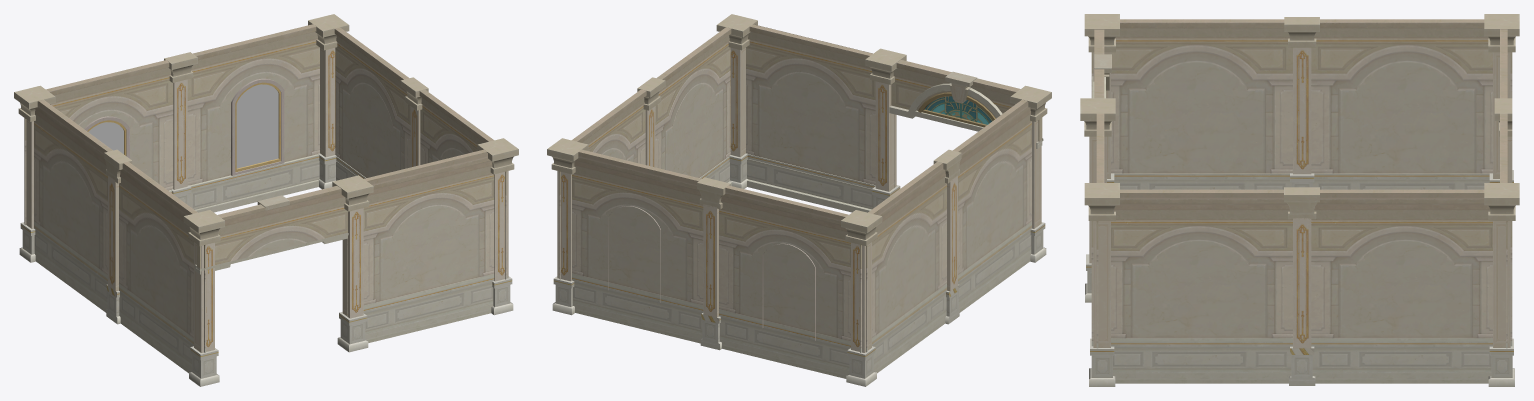
The model's file is Homeworld_Interior_Fd_Room_I_Wall_01_Vo.fbx.
The picture shows the model from 3 angles, left to right: view 1: azimuth 30°, elevation 25°; view 2: azimuth 150°, elevation 25°; view 3: azimuth 270°, elevation 25°; orthographic projection. The views are drawn at different scales.
Parts seen in each view (by area): view 1: Homeworld_Interior_Fd_Room_I_Filling_01_Vo, Homeworld_Interior_Fd_Room_Wall_02_Vo (×2), Homeworld_Interior_Fd_Room_Pillar_01_Vo (×5), Homeworld_Interior_Fd_Room_Wall_01_Vo (×5), Homeworld_Interior_Fd_Room_Door_02_Vo, Homeworld_Interior_Fd_Room_Pillar_02_Vo (×3); view 2: Homeworld_Interior_Fd_Room_I_Filling_01_Vo, Homeworld_Interior_Fd_Room_Wall_01_Vo (×5), Homeworld_Interior_Fd_Room_Pillar_01_Vo (×5), Homeworld_Interior_Fd_Room_Pillar_02_Vo (×3), Homeworld_Interior_Fd_Room_Door_02_Vo, Homeworld_Interior_Fd_Room_Wall_02_Vo (×2); view 3: Homeworld_Interior_Fd_Room_I_Filling_01_Vo, Homeworld_Interior_Fd_Room_Wall_01_Vo (×5), Homeworld_Interior_Fd_Room_Pillar_01_Vo (×5), Homeworld_Interior_Fd_Room_Pillar_02_Vo (×3), Homeworld_Interior_Fd_Room_Wall_02_Vo (×2), Homeworld_Interior_Fd_Room_Door_02_Vo.
Part boxes in pixels (<box>): Homeworld_Interior_Fd_Room_I_Filling_01_Vo: <box>34,102,494,373</box>; Homeworld_Interior_Fd_Room_Wall_02_Vo (×2): <box>24,24,319,224</box>; Homeworld_Interior_Fd_Room_Pillar_01_Vo (×5): <box>14,14,518,386</box>; Homeworld_Interior_Fd_Room_Wall_01_Vo (×5): <box>38,27,506,352</box>; Homeworld_Interior_Fd_Room_Door_02_Vo: <box>195,186,348,274</box>; Homeworld_Interior_Fd_Room_Pillar_02_Vo (×3): <box>104,52,428,324</box>; Homeworld_Interior_Fd_Room_I_Filling_01_Vo: <box>572,24,1031,378</box>; Homeworld_Interior_Fd_Room_Wall_01_Vo (×5): <box>559,24,1027,352</box>; Homeworld_Interior_Fd_Room_Pillar_01_Vo (×5): <box>547,14,1051,386</box>; Homeworld_Interior_Fd_Room_Pillar_02_Vo (×3): <box>637,77,961,350</box>; Homeworld_Interior_Fd_Room_Door_02_Vo: <box>889,60,1043,148</box>; Homeworld_Interior_Fd_Room_Wall_02_Vo (×2): <box>578,149,867,352</box>; Homeworld_Interior_Fd_Room_I_Filling_01_Vo: <box>1111,193,1492,383</box>; Homeworld_Interior_Fd_Room_Wall_01_Vo (×5): <box>1091,19,1512,348</box>; Homeworld_Interior_Fd_Room_Pillar_01_Vo (×5): <box>1080,14,1519,386</box>; Homeworld_Interior_Fd_Room_Pillar_02_Vo (×3): <box>1284,17,1512,385</box>; Homeworld_Interior_Fd_Room_Wall_02_Vo (×2): <box>1500,29,1507,348</box>; Homeworld_Interior_Fd_Room_Door_02_Vo: <box>1092,29,1111,98</box>.
Size of what is drawn, in the model's own units: 10.35 by 5.02 by 10.44.
